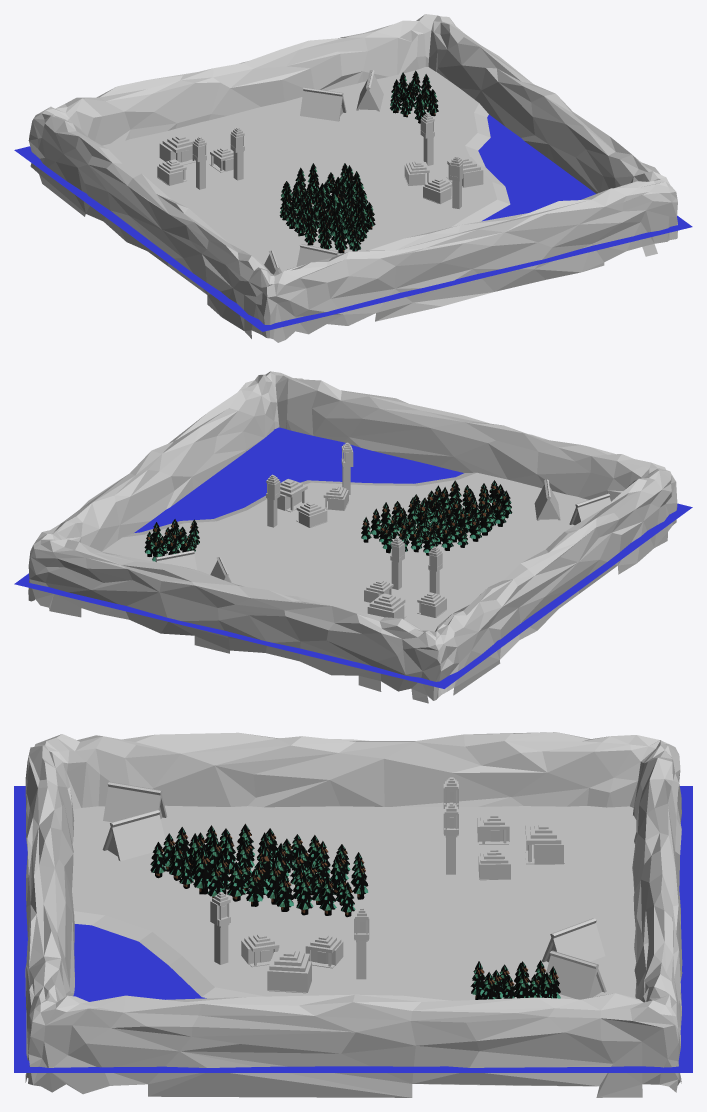
File: World.fbx
3 renders of one model, top to bottom at view 1: azimuth 30°, elevation 25°; view 2: azimuth 150°, elevation 25°; view 3: azimuth 270°, elevation 25°, orthographic. The views are drawn at different scales.
Visible parts, largest first — view 1: Cube, Plane, Plane.001, Cube.002, Building.004, Cube.001, Building, Building.001, Building.005, Cube.003, Building.002, Building.006; view 2: Cube, Plane, Plane.001, Building, Building.004, Cube.003, Cube.004, Building.002, Building.005, Building.001, Cube.001; view 3: Cube, Plane, Plane.001, Cube.003, Cube.001, Cube.004, Building, Cube.002, Building.004, Building.002, Building.006, Building.005 (+4 smaller).
Part boxes in pixels (left/top/right/bottom): Cube: left=28, top=14, right=677, bottom=342; Plane: left=102, top=67, right=510, bottom=272; Plane.001: left=14, top=114, right=692, bottom=331; Cube.002: left=300, top=87, right=346, bottom=121; Building.004: left=159, top=134, right=195, bottom=164; Cube.001: left=356, top=70, right=383, bottom=111; Building: left=446, top=156, right=483, bottom=187; Building.001: left=423, top=177, right=452, bottom=203; Building.005: left=157, top=159, right=187, bottom=185; Cube.003: left=296, top=244, right=338, bottom=266; Building.002: left=404, top=161, right=429, bottom=185; Building.006: left=209, top=147, right=233, bottom=172; Cube: left=28, top=371, right=677, bottom=703; Plane: left=102, top=472, right=588, bottom=631; Plane.001: left=14, top=427, right=692, bottom=688; Building: left=277, top=479, right=308, bottom=512; Building.004: left=367, top=593, right=406, bottom=619; Cube.003: left=534, top=479, right=560, bottom=520; Cube.004: left=569, top=493, right=610, bottom=525; Building.002: left=296, top=501, right=327, bottom=527; Building.005: left=417, top=592, right=446, bottom=617; Building.001: left=323, top=486, right=348, bottom=510; Cube.001: left=155, top=550, right=197, bottom=570; Cube: left=25, top=732, right=682, bottom=1097; Plane: left=72, top=805, right=636, bottom=1000; Plane.001: left=14, top=786, right=692, bottom=1072; Cube.003: left=102, top=810, right=165, bottom=861; Cube.001: left=546, top=950, right=606, bottom=999; Cube.004: left=103, top=781, right=167, bottom=822; Building: left=267, top=950, right=311, bottom=993; Cube.002: left=542, top=918, right=605, bottom=962; Building.004: left=525, top=823, right=564, bottom=864; Building.002: left=305, top=934, right=343, bottom=968; Building.006: left=478, top=847, right=510, bottom=880; Building.005: left=477, top=813, right=509, bottom=844.
Size of the model in its own units: 1173 by 201 by 1173.
